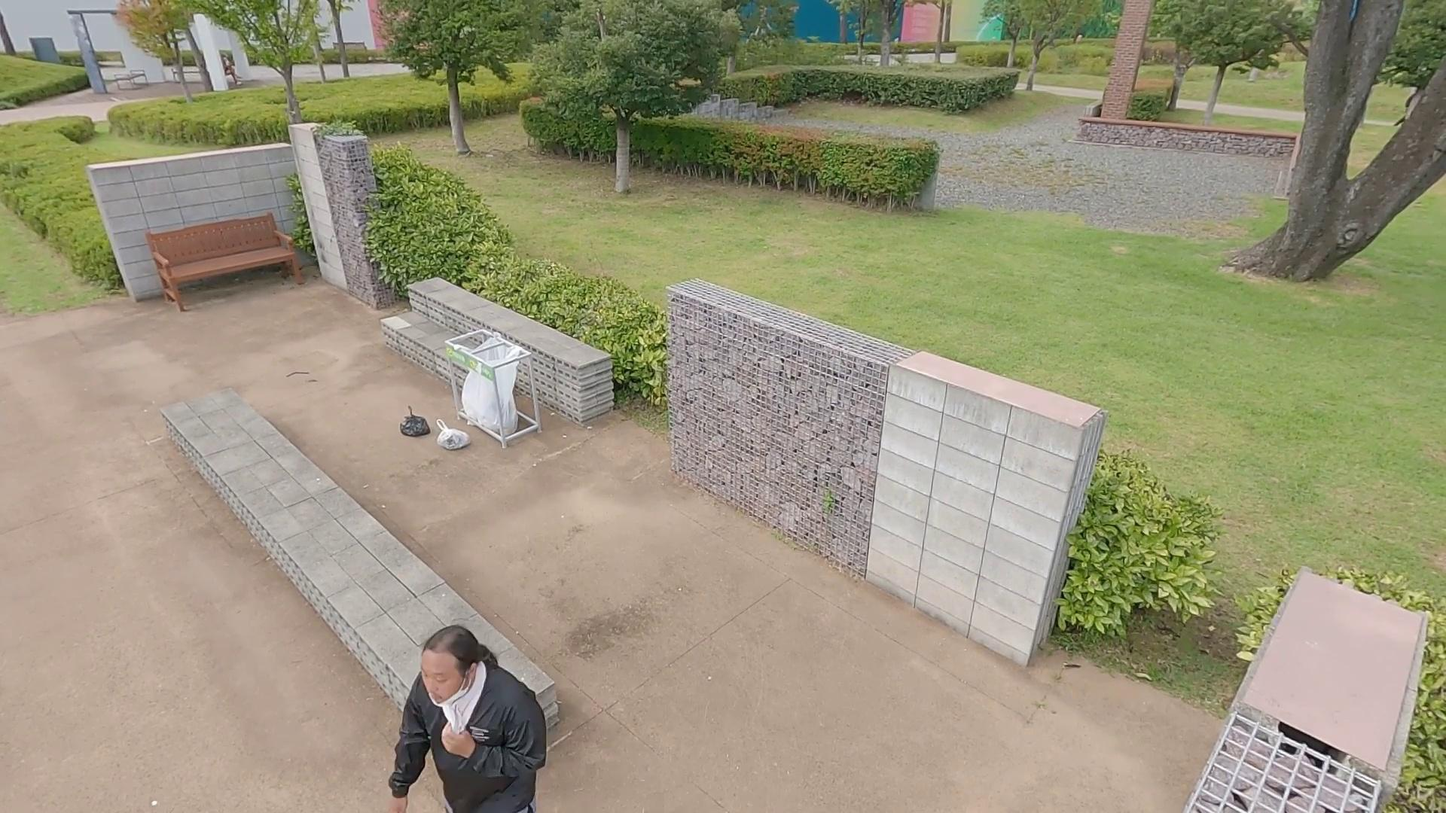person: (369, 618, 576, 813)
trash: (435, 420, 471, 454), (402, 405, 432, 440)
